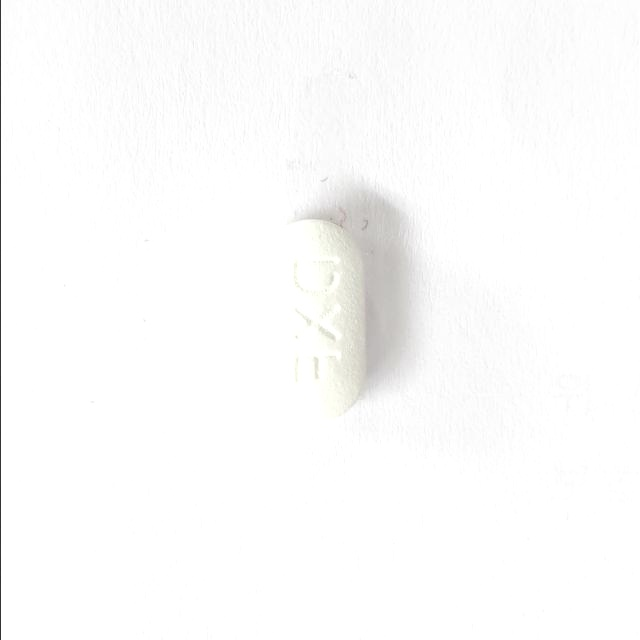pill: (247, 215, 375, 425)
